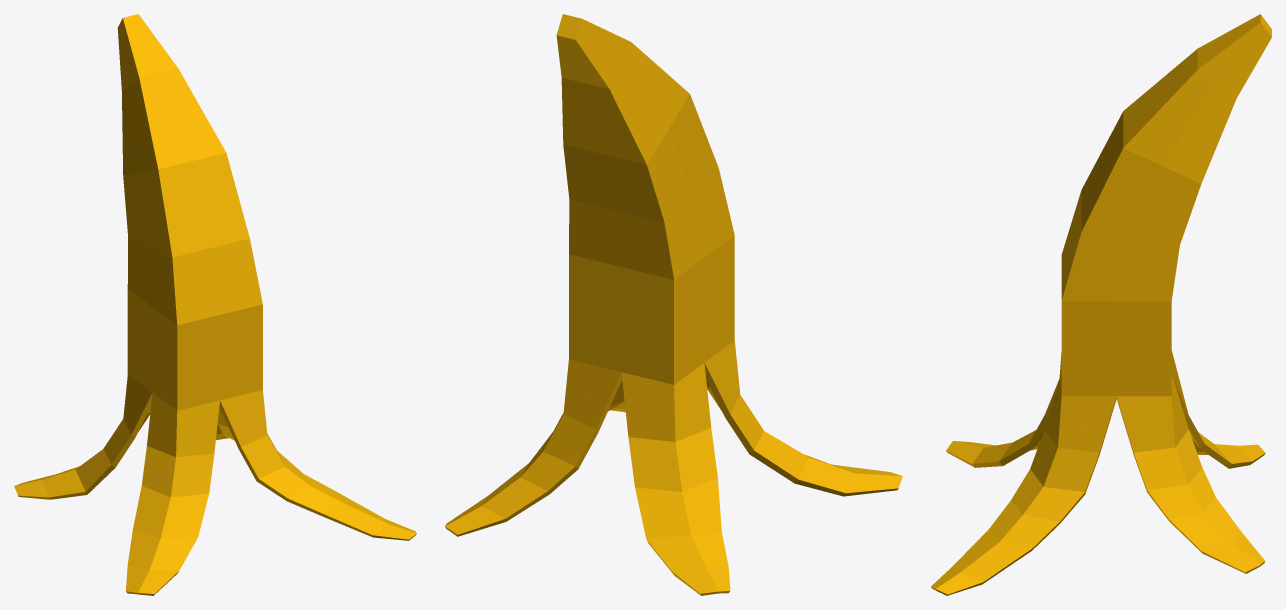
File: Banana_Open.fbx
The picture shows the model from 3 angles, left to right: view 1: azimuth 30°, elevation 25°; view 2: azimuth 150°, elevation 25°; view 3: azimuth 270°, elevation 25°; orthographic projection. The views are drawn at different scales.
Parts seen in each view (by area): view 1: Cube; view 2: Cube; view 3: Cube.
Boxes of the visible parts, x1=… form: Cube: x1=14, y1=14, x2=416, y2=595; Cube: x1=445, y1=14, x2=902, y2=595; Cube: x1=931, y1=14, x2=1271, y2=595.
Bounding box in the file's own units: 34.41 × 52.84 × 32.66.
